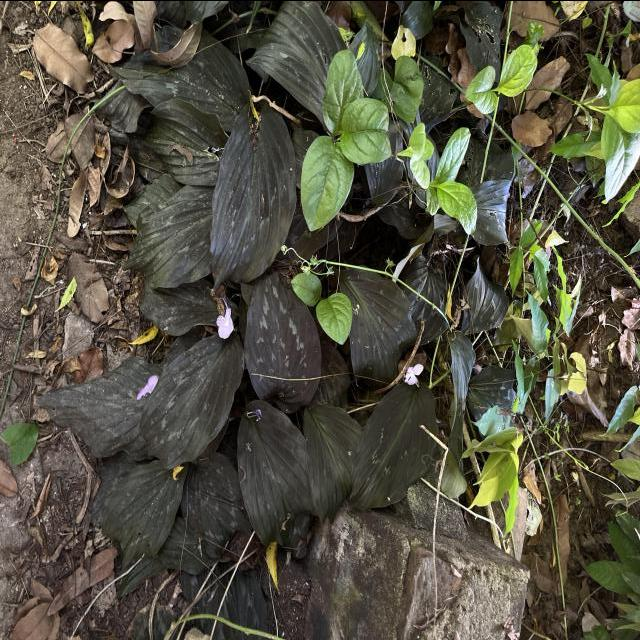Kaempferia galanga linn: (208, 98, 298, 295), (138, 331, 248, 472), (346, 378, 440, 514), (242, 263, 324, 415), (236, 396, 316, 547)
